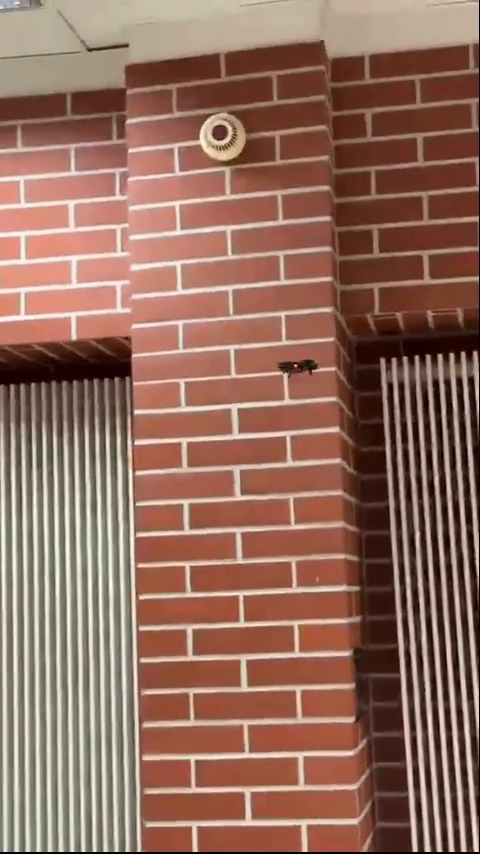drone: (279, 356, 320, 378)
